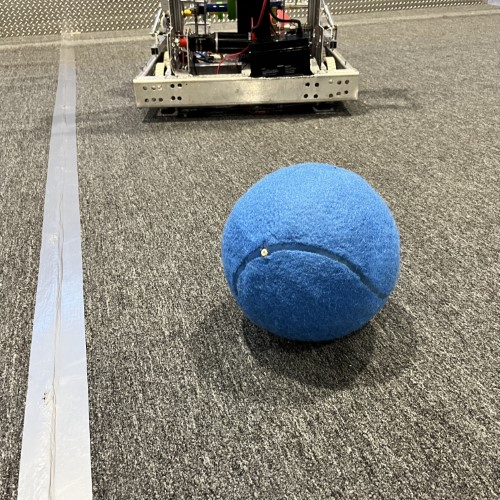blue: (218, 161, 403, 344)
